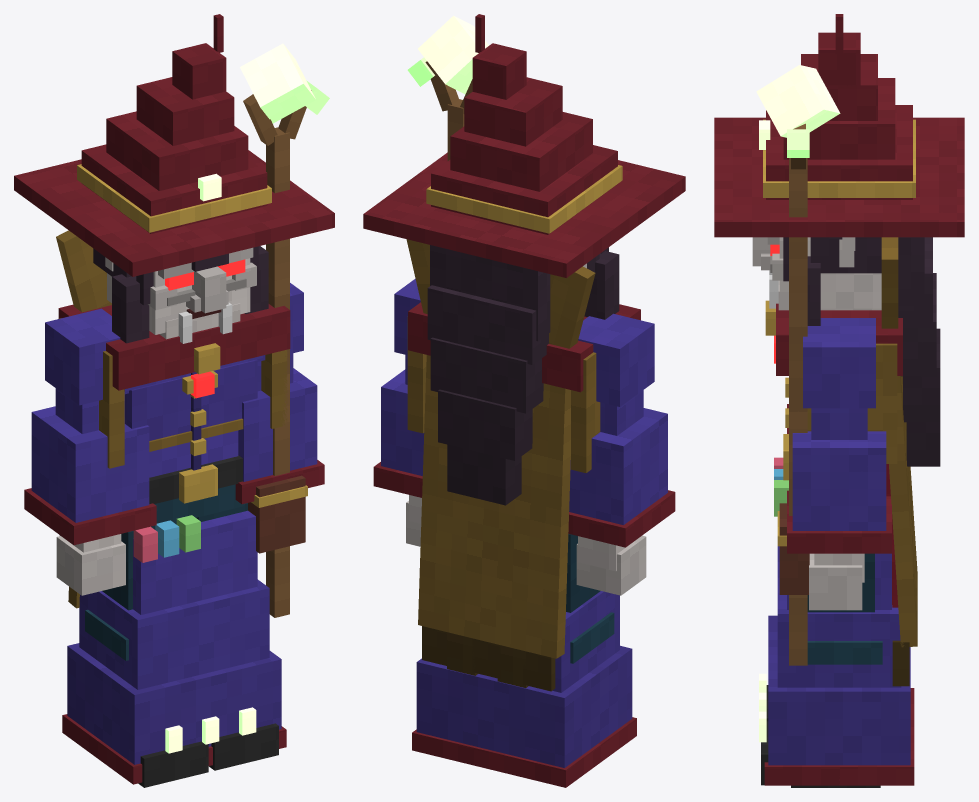
The model's file is vampire_mage.glb.
3 renders of one model, left to right at view 1: azimuth 30°, elevation 25°; view 2: azimuth 150°, elevation 25°; view 3: azimuth 270°, elevation 25°, orthographic. The views are drawn at different scales.
Parts seen in each view (by area): view 1: Head, Root, Torso, ArmR, HandL, ArmL, LegR, LegL; view 2: Head, Torso, Root, ArmR, ArmL, HandL, LegR; view 3: Head, Root, ArmL, Torso, HandL, LegL.
Part boxes in pixels (x1,y1,x2,y2): Head: (14, 14, 334, 343); Root: (62, 510, 286, 784); Torso: (56, 230, 307, 608); ArmR: (24, 308, 156, 595); HandL: (240, 43, 329, 617); ArmL: (235, 283, 324, 552); LegR: (85, 522, 208, 787); LegL: (196, 503, 278, 770); Head: (363, 14, 685, 505); Torso: (406, 239, 640, 691); Root: (412, 591, 636, 787); ArmR: (568, 313, 675, 595); ArmL: (373, 278, 424, 546); HandL: (407, 15, 488, 160); LegR: (566, 534, 614, 663); Head: (714, 14, 964, 466); Root: (759, 546, 914, 785); ArmL: (787, 318, 891, 610); Torso: (765, 237, 917, 686); HandL: (756, 65, 840, 665); LegL: (761, 553, 882, 787).
Bounding box in the file's own units: 0.8354 × 2.24 × 0.67.
41 materials, 41 textured.
